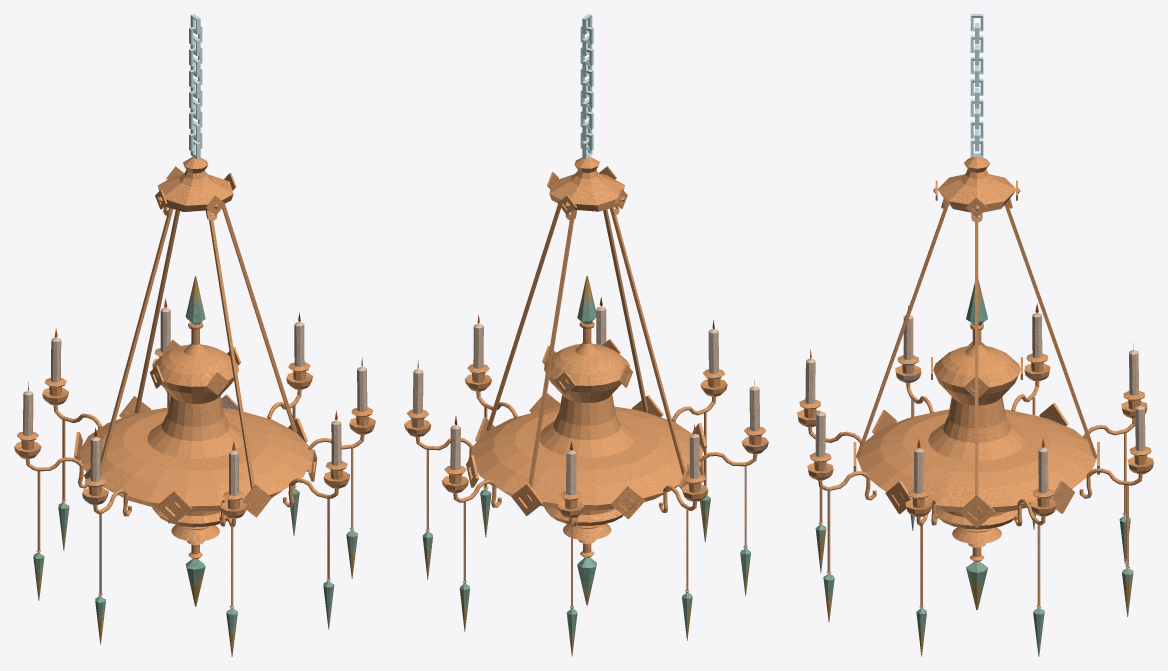
The model's file is Araña_Techo.fbx.
3 views of the same model, side by side, from view 1: azimuth 30°, elevation 25°; view 2: azimuth 150°, elevation 25°; view 3: azimuth 270°, elevation 25° (orthographic).
Parts seen in each view (by area): view 1: Cylinder.010; view 2: Cylinder.010; view 3: Cylinder.010.
Boxes of the visible parts, left/top/right/bottom form: Cylinder.010: left=14, top=14, right=375, bottom=656; Cylinder.010: left=404, top=14, right=768, bottom=656; Cylinder.010: left=797, top=14, right=1153, bottom=656.
Bounding box in the file's own units: 125 × 237 × 129.
